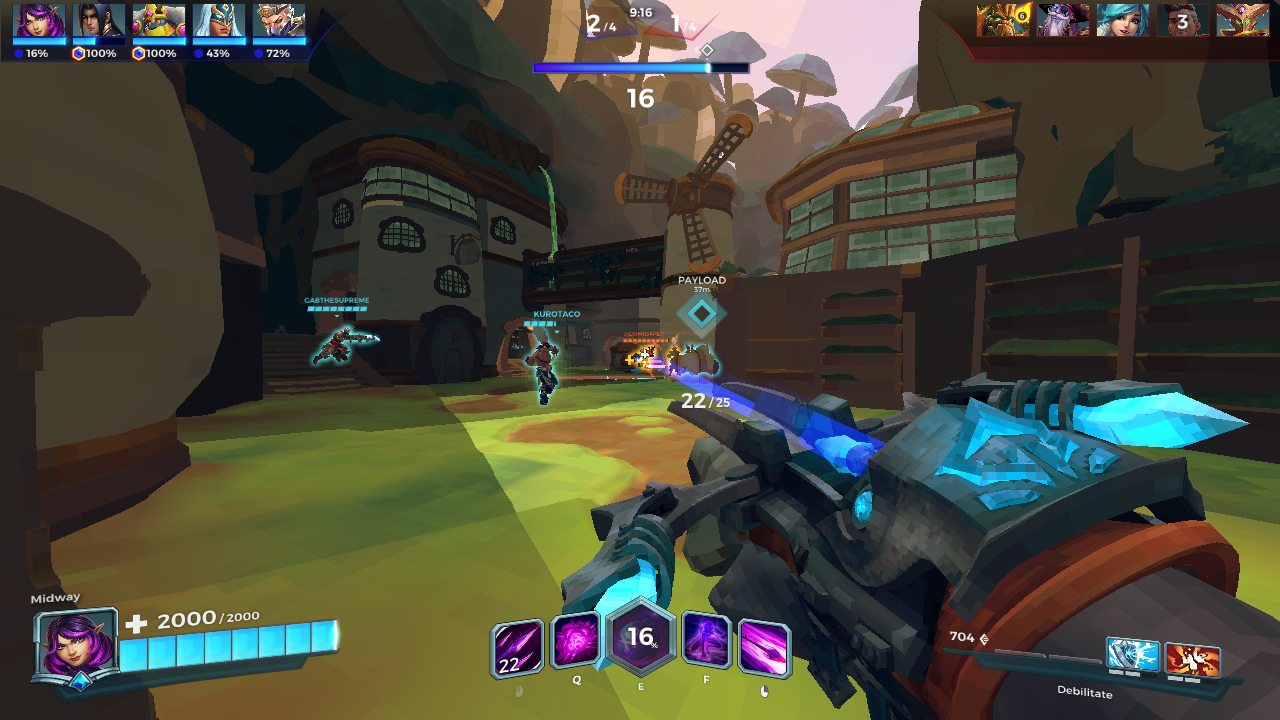model: (631, 343, 661, 370)
